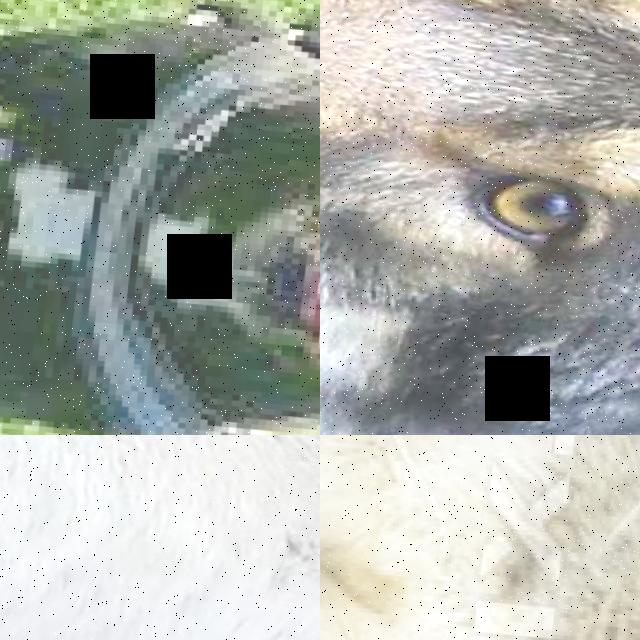dog: (0, 0, 320, 435)
wolf: (320, 0, 640, 435), (0, 435, 320, 640), (320, 435, 640, 640)
